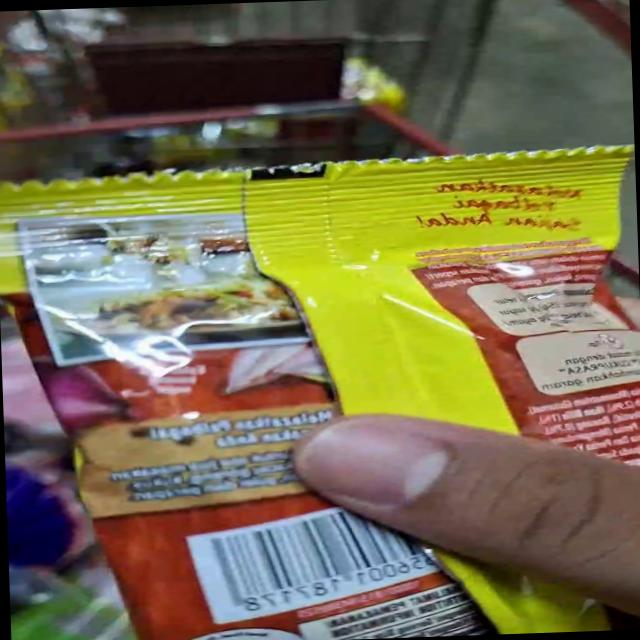Maggi Cukup Rasa: (0, 124, 627, 427), (94, 340, 640, 640)
